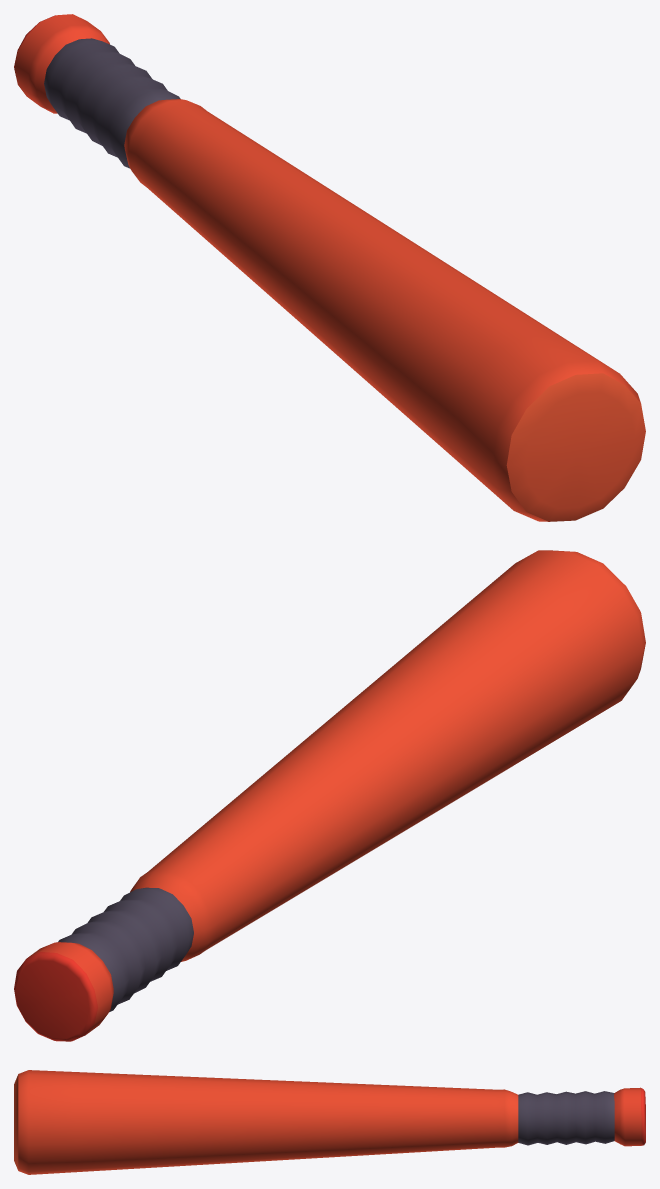
The model's file is baseball_bat.fbx.
3 views of the same model, one above another, from view 1: azimuth 30°, elevation 25°; view 2: azimuth 150°, elevation 25°; view 3: azimuth 270°, elevation 25° (orthographic). The views are drawn at different scales.
Parts seen in each view (by area): view 1: baseball_bat; view 2: baseball_bat; view 3: baseball_bat.
Boxes of the visible parts, x1,y1,x2,y2 form: baseball_bat: [14, 14, 645, 521]; baseball_bat: [14, 550, 645, 1041]; baseball_bat: [14, 1070, 645, 1174].
Size of the model in its own units: 17.71 by 17.71 by 107.
